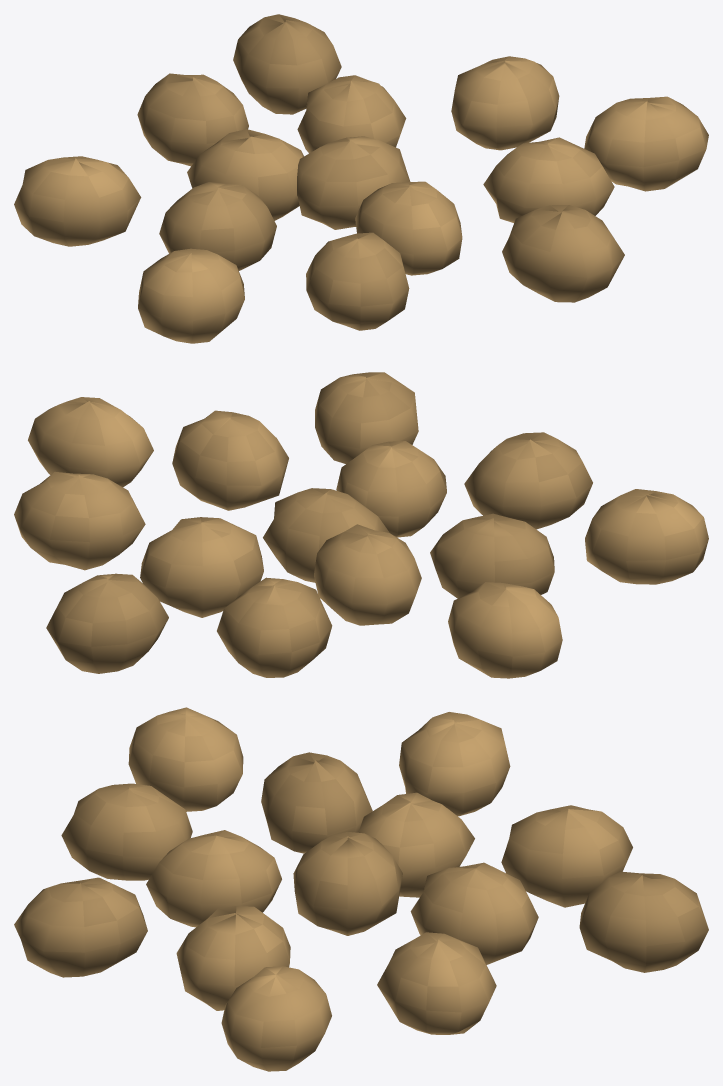
Rendered from Chickpeas.glb.
The picture shows the model from 3 angles, top to bottom: view 1: azimuth 30°, elevation 25°; view 2: azimuth 150°, elevation 25°; view 3: azimuth 270°, elevation 25°; orthographic projection. The views are drawn at different scales.
Parts seen in each view (by area): view 1: Chickpeas; view 2: Chickpeas; view 3: Chickpeas.
Part boxes in pixels (x1,y1,x2,y2): Chickpeas: [14, 14, 708, 343]; Chickpeas: [14, 372, 708, 678]; Chickpeas: [14, 707, 708, 1071].
Size of what is drawn, in the model's own units: 0.053 by 0.00726 by 0.0494.
